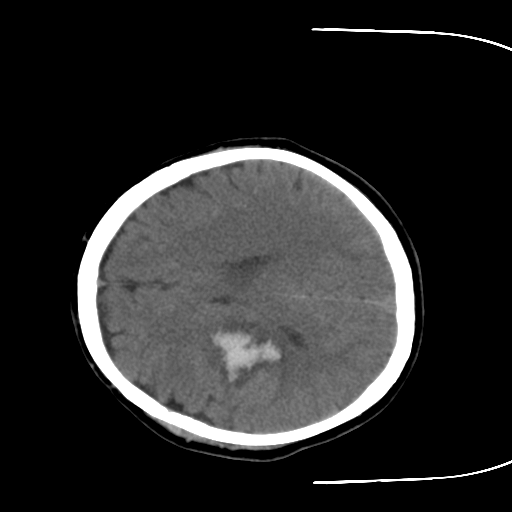a: (195, 306, 296, 402)
